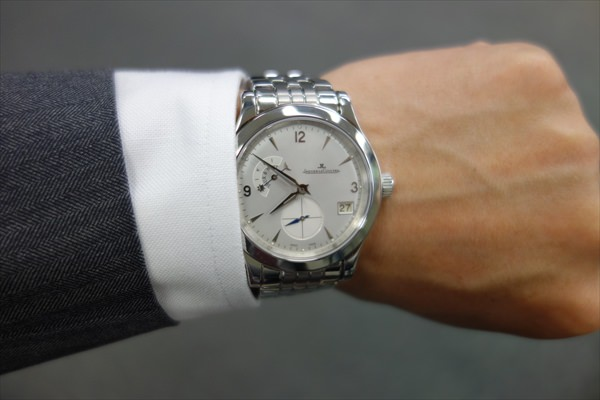clock: (239, 121, 367, 265)
